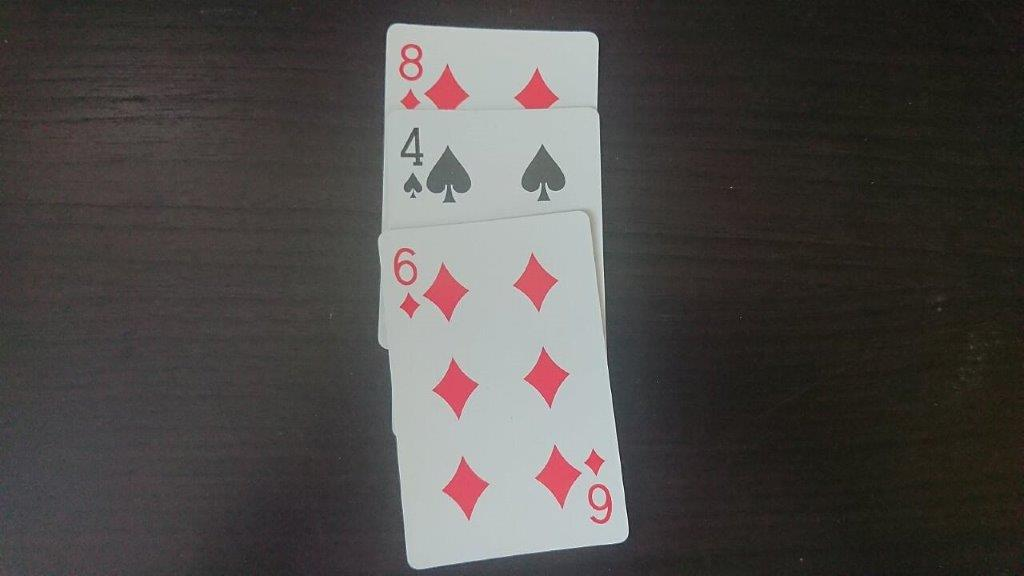4S: (395, 117, 435, 204)
6D: (386, 238, 432, 325)
8D: (393, 38, 429, 112)
